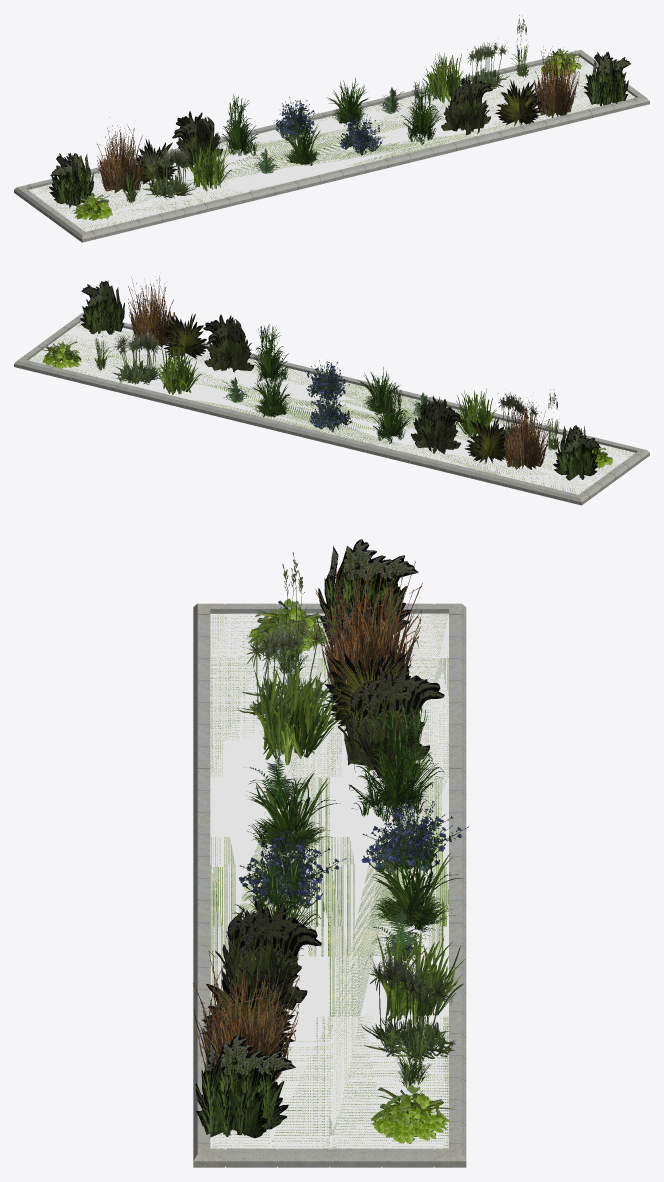
3 views of the same model, one above another, from view 1: azimuth 30°, elevation 25°; view 2: azimuth 150°, elevation 25°; view 3: azimuth 270°, elevation 25° (orthographic). The views are drawn at different scales.
Parts seen in each view (by area): view 1: SketchUp, group_232 (×2), group_242 (×2), group_67 (×2), group_103 (×2), group_233 (×2), group_2 (×2), group_197 (×2), group_216 (×2), group_131 (×2), group_104 (×2), group_245 (×2) (+4 smaller); view 2: SketchUp, group_232 (×2), group_242 (×2), group_67 (×2), group_103 (×2), group_233 (×2), group_197 (×2), group_216 (×2), group_2 (×2), group_131 (×2), group_245 (×2), group_104 (×2) (+5 smaller); view 3: SketchUp, group_72 (×2), group_245 (×2), group_233 (×2), group_104 (×2), group_3 (×2), group_196 (×2), group_130 (×2), _60_cm_BORDÜR (×4), group_218 (×2), group_5 (×2), group_124 (×2) (+2 smaller).
Boxes of the visible parts, x1,y1,x2,y2 form: SketchUp: [28, 55, 635, 231]; group_232 (×2): [96, 47, 580, 191]; group_242 (×2): [50, 53, 630, 203]; group_67 (×2): [172, 75, 492, 151]; group_103 (×2): [190, 53, 463, 187]; group_233 (×2): [107, 46, 567, 191]; group_2 (×2): [146, 40, 509, 197]; group_197 (×2): [221, 81, 439, 149]; group_216 (×2): [136, 82, 538, 181]; group_131 (×2): [284, 78, 366, 161]; group_104 (×2): [193, 52, 456, 189]; group_245 (×2): [56, 51, 618, 205]; SketchUp: [28, 321, 635, 494]; group_232 (×2): [128, 277, 549, 466]; group_242 (×2): [81, 280, 600, 476]; group_67 (×2): [203, 314, 462, 449]; group_103 (×2): [159, 346, 494, 430]; group_233 (×2): [138, 275, 536, 469]; group_197 (×2): [252, 324, 409, 437]; group_216 (×2): [165, 315, 506, 459]; group_2 (×2): [116, 331, 540, 440]; group_131 (×2): [254, 371, 397, 415]; group_245 (×2): [87, 280, 585, 480]; group_104 (×2): [163, 345, 486, 436]; SketchUp: [210, 613, 448, 1149]; group_72 (×2): [215, 663, 444, 1002]; group_245 (×2): [195, 539, 418, 1129]; group_233 (×2): [193, 557, 422, 1079]; group_104 (×2): [249, 665, 465, 1015]; group_3 (×2): [237, 614, 455, 1055]; group_196 (×2): [232, 698, 443, 926]; group_130 (×2): [249, 763, 463, 917]; _60_cm_BORDÜR (×4): [226, 1148, 433, 1167]; group_218 (×2): [200, 650, 410, 1035]; group_5 (×2): [257, 608, 434, 1060]; group_124 (×2): [258, 552, 431, 1084].
Size of the model in its own units: 604 by 128 by 69.31.
16 materials, 14 textured.
